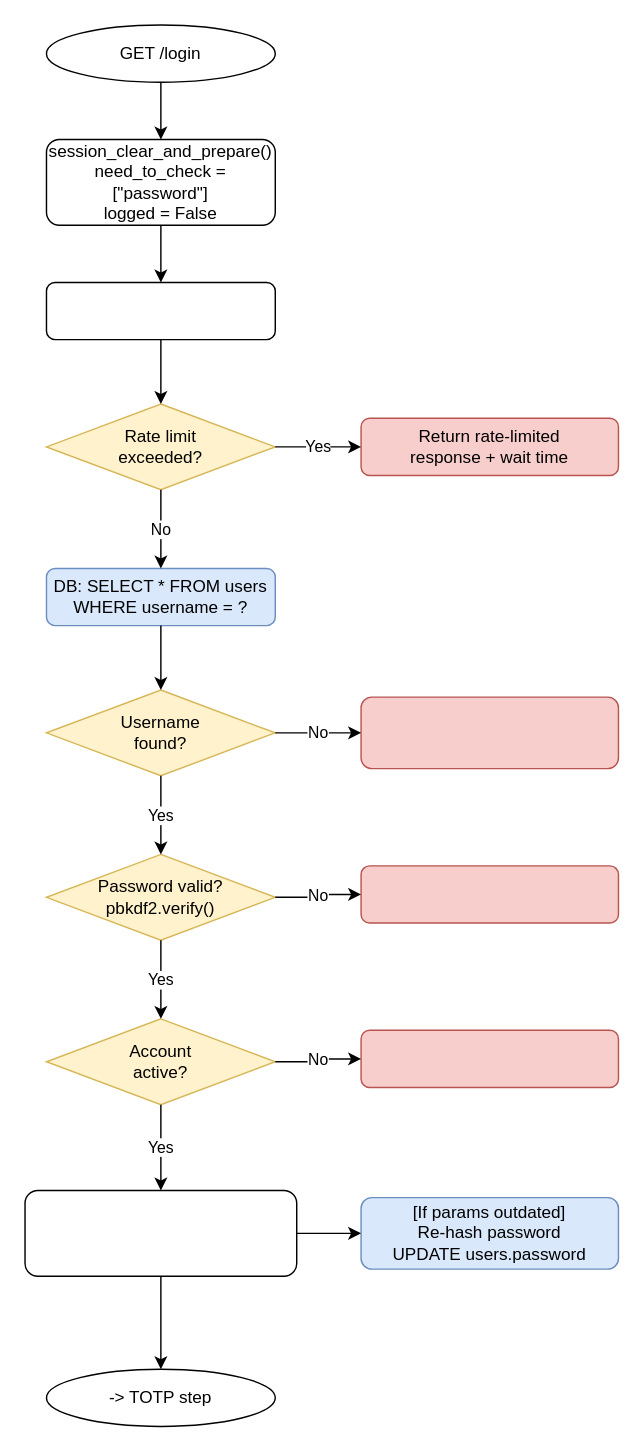
The diagram is 644 pixels wide and 1451 high, and some of its shapes have lost their labels. The shapes that lost their labels are listed below. From the top down, each one's centre as x and y in pixels, then its label:
(160,310): POST /do/login
(489,732): Dummy pbkdf2.verify() trigger_rate_limit() return logged=false
(489,893): trigger_rate_limit() return logged=false
(489,1058): Return "account not activated"
(160,1232): Set session: username, user_id password_key = PBKDF2(pwd, "AES256")
